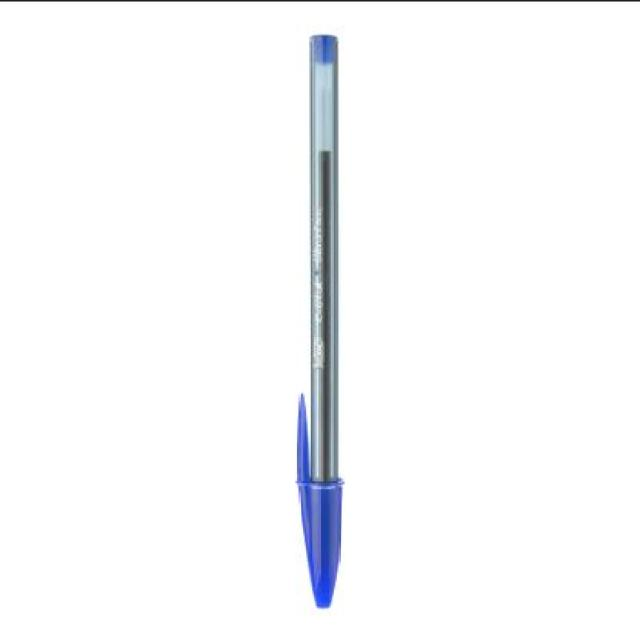pen: (301, 34, 342, 595)
